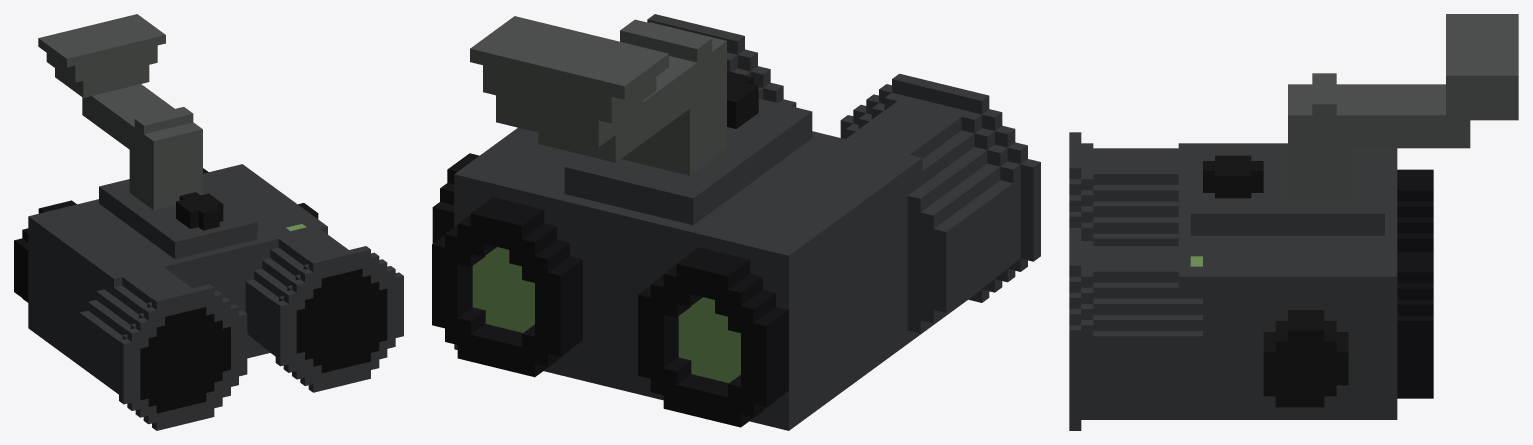
Rendered from enhanced_nvg_on.glb.
3 renders of one model, left to right at view 1: azimuth 30°, elevation 25°; view 2: azimuth 150°, elevation 25°; view 3: azimuth 270°, elevation 25°, orthographic. The views are drawn at different scales.
Visible parts, largest first — view 1: enhanced_nvg_on:compound; view 2: enhanced_nvg_on:compound; view 3: enhanced_nvg_on:compound.
Part boxes in pixels (x1,y1,x2,y2): enhanced_nvg_on:compound: [14, 14, 403, 430]; enhanced_nvg_on:compound: [432, 14, 1040, 430]; enhanced_nvg_on:compound: [1069, 14, 1518, 430].
Size of the model in its own units: 0.136 by 0.116 by 0.148.
